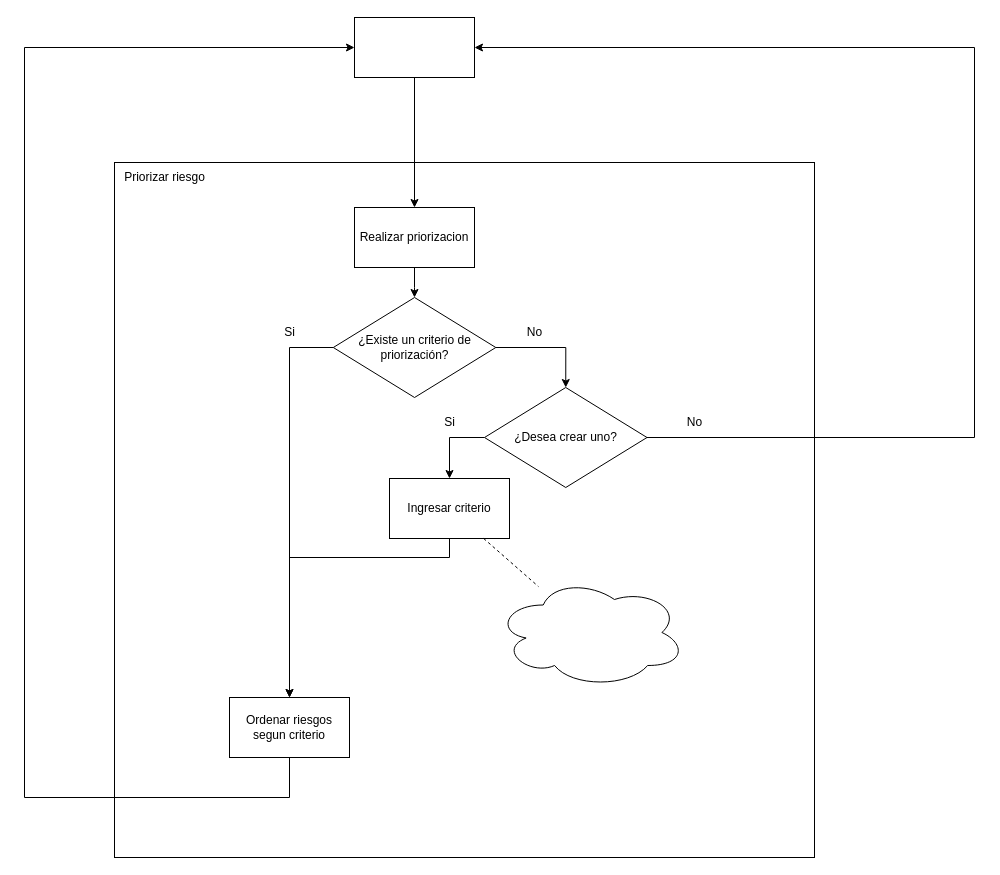
This 1000x875 diagram has some shape labels left out. The box of each missing label's shape, as (x1, y1, x2, y2) in pixels:
El criterio se basa los atributos de evaluaciones: (495, 576, 686, 688)
Ingresa a listado de riesgo: (354, 16, 474, 78)
